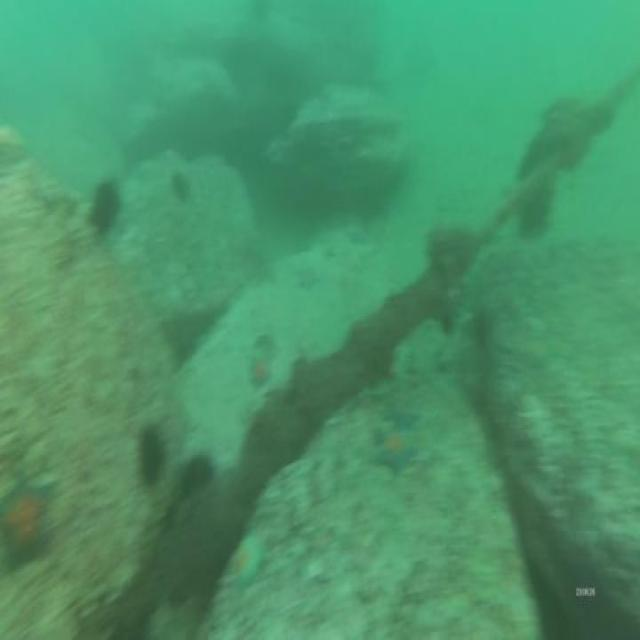echinus: (90, 177, 122, 234), (180, 447, 214, 496), (140, 425, 166, 488), (173, 164, 193, 207)
starfish: (1, 472, 56, 569), (227, 530, 270, 592), (376, 425, 414, 476), (385, 402, 422, 436), (249, 351, 273, 390), (295, 264, 319, 291), (348, 226, 372, 248)
